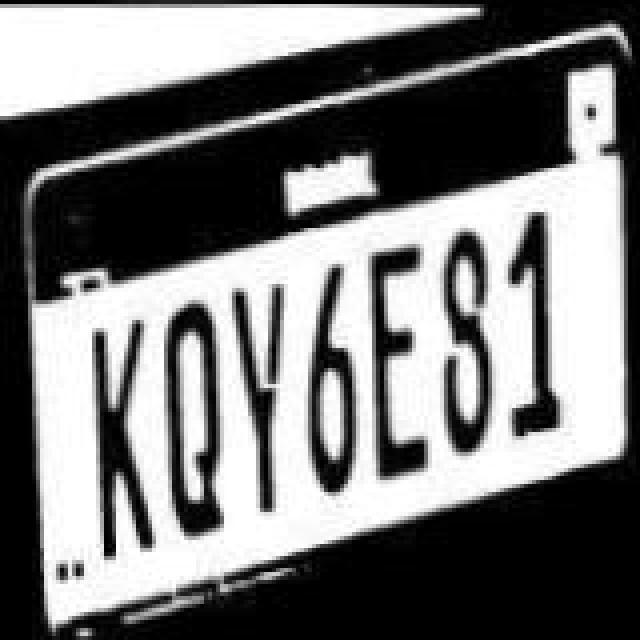1: (508, 212, 576, 448)
6: (304, 250, 364, 510)
8: (434, 226, 506, 470)
E: (368, 240, 436, 484)
K: (92, 322, 164, 570)
Q: (160, 284, 224, 540)
Y: (230, 272, 298, 520)
